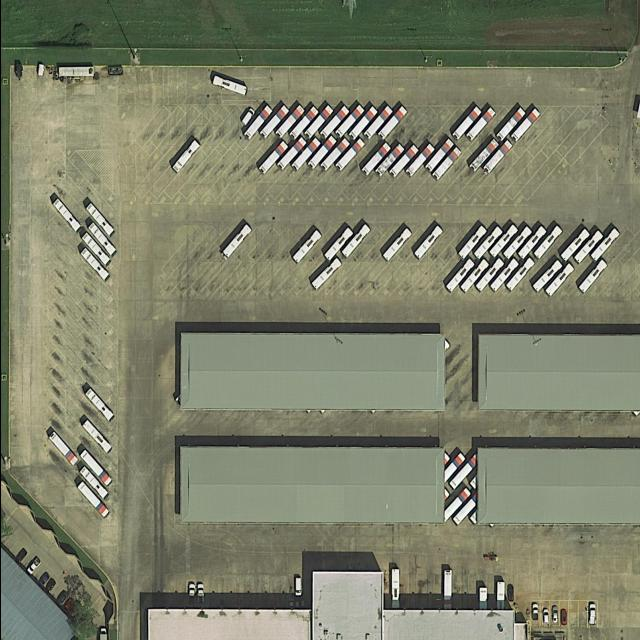large-vehicle: (438, 486, 471, 524), (79, 449, 112, 487), (76, 481, 109, 518), (448, 453, 481, 490), (219, 224, 251, 262), (46, 432, 79, 467), (333, 137, 365, 173), (318, 104, 349, 141), (305, 134, 336, 171), (504, 256, 535, 293), (451, 491, 483, 526), (80, 419, 112, 454), (360, 142, 391, 178), (465, 106, 496, 142), (495, 106, 526, 142), (456, 224, 487, 260), (471, 225, 502, 261), (347, 105, 378, 141), (257, 140, 288, 176), (288, 105, 319, 141), (589, 227, 620, 263), (531, 258, 562, 294), (543, 262, 574, 298), (374, 142, 404, 179), (451, 105, 481, 142), (323, 226, 353, 263), (474, 256, 504, 293), (404, 143, 435, 178), (467, 138, 498, 173), (258, 105, 289, 140), (274, 104, 305, 139), (276, 136, 307, 171), (334, 104, 365, 139), (559, 228, 590, 263), (444, 258, 475, 293), (362, 105, 392, 141), (377, 105, 407, 141), (431, 146, 461, 182), (413, 224, 443, 260), (482, 139, 512, 175), (488, 223, 518, 259), (242, 105, 272, 141), (290, 136, 320, 172), (303, 104, 333, 140), (291, 229, 321, 265), (532, 224, 562, 260), (459, 258, 489, 294), (577, 258, 607, 294), (309, 257, 341, 290), (79, 247, 110, 281), (83, 388, 114, 422), (388, 144, 418, 179), (510, 108, 540, 143), (319, 138, 349, 173), (502, 225, 532, 260), (517, 225, 547, 260), (489, 257, 518, 293), (381, 228, 412, 261), (78, 466, 109, 499), (84, 203, 114, 237), (80, 232, 110, 266), (170, 139, 200, 173), (573, 230, 603, 264), (424, 138, 453, 173), (341, 223, 370, 258), (52, 198, 81, 233), (86, 223, 116, 256), (437, 453, 465, 484), (211, 75, 246, 96), (442, 570, 451, 610), (390, 569, 399, 609), (495, 582, 504, 610), (478, 587, 487, 610)
small-vehicle: (25, 556, 41, 576), (240, 106, 255, 127), (66, 602, 80, 618), (61, 596, 75, 612), (36, 572, 49, 588), (55, 589, 68, 605), (43, 578, 55, 595), (14, 548, 27, 563), (588, 603, 596, 627), (187, 583, 195, 606), (196, 584, 204, 604), (293, 577, 301, 597), (541, 608, 549, 626), (531, 604, 538, 621), (506, 584, 513, 601), (559, 610, 566, 626), (551, 605, 557, 623)
